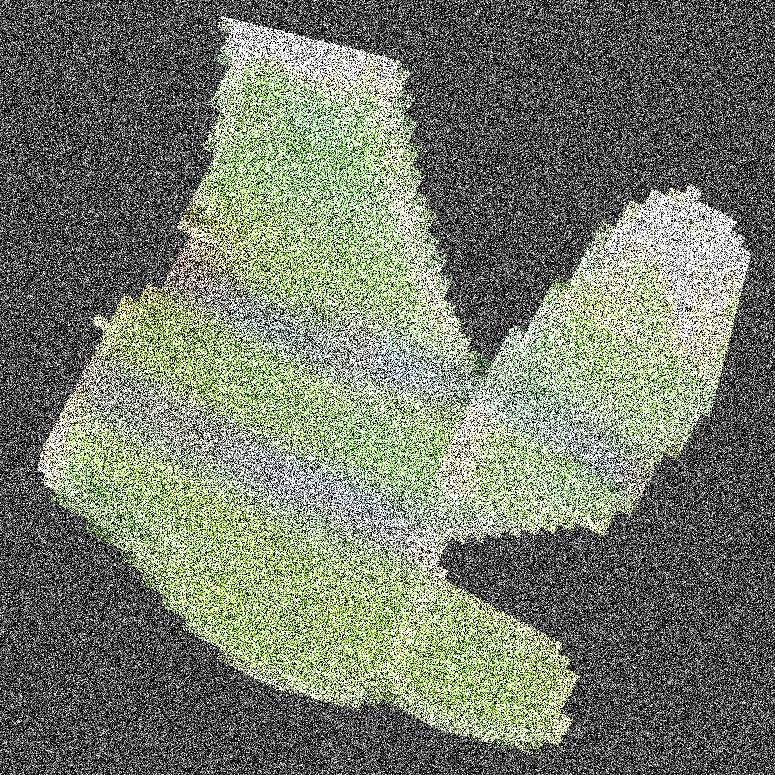Colete: (230, 0, 701, 774)
